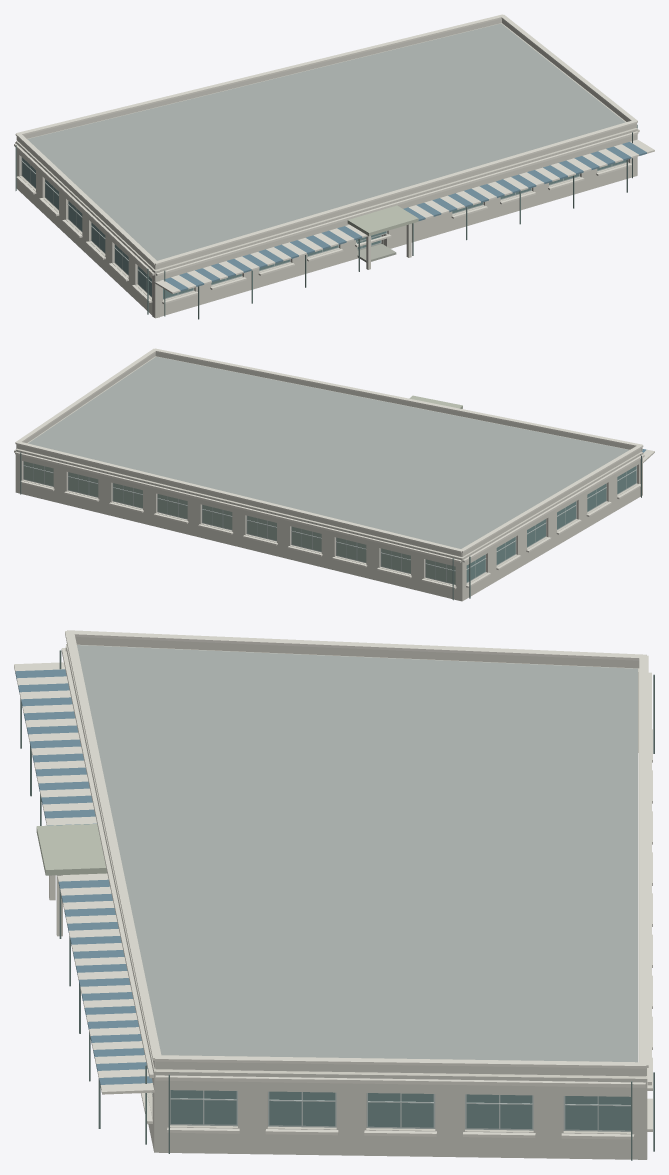
3 views of the same model, one above another, from view 1: azimuth 30°, elevation 25°; view 2: azimuth 150°, elevation 25°; view 3: azimuth 270°, elevation 25° (orthographic). The views are drawn at different scales.
Visible parts, largest first — view 1: cafeteria__greyroof, cafeteria__wall, cafeteria__trim, cafeteria__awningblue, cafeteria__glass, cafeteria__entry, cafeteria__frame, cafeteria__metal; view 2: cafeteria__greyroof, cafeteria__wall, cafeteria__trim, cafeteria__sideglass, cafeteria__glass, cafeteria__frame; view 3: cafeteria__greyroof, cafeteria__trim, cafeteria__wall, cafeteria__glass, cafeteria__awningblue, cafeteria__entry, cafeteria__frame, cafeteria__metal.
Part boxes in pixels (x1,y1,x2,y2): cafeteria__greyroof: (27,23,625,260); cafeteria__wall: (16,18,637,318); cafeteria__trim: (14,14,654,303); cafeteria__awningblue: (163,142,646,291); cafeteria__glass: (22,158,626,298); cafeteria__entry: (347,205,418,236); cafeteria__frame: (21,157,628,299); cafeteria__metal: (15,124,637,319); cafeteria__greyroof: (28,356,628,548); cafeteria__wall: (15,352,642,601); cafeteria__trim: (14,348,654,588); cafeteria__sideglass: (24,461,455,584); cafeteria__glass: (466,466,636,582); cafeteria__frame: (23,461,636,584); cafeteria__greyroof: (77,645,637,1062); cafeteria__trim: (14,630,652,1139); cafeteria__wall: (65,637,647,1159); cafeteria__glass: (170,1090,630,1130); cafeteria__awningblue: (15,669,152,1086); cafeteria__entry: (36,824,107,875); cafeteria__frame: (152,1090,630,1131); cafeteria__metal: (20,650,654,1160).
Bounding box in the file's own units: 43.89 × 4.38 × 26.98.
